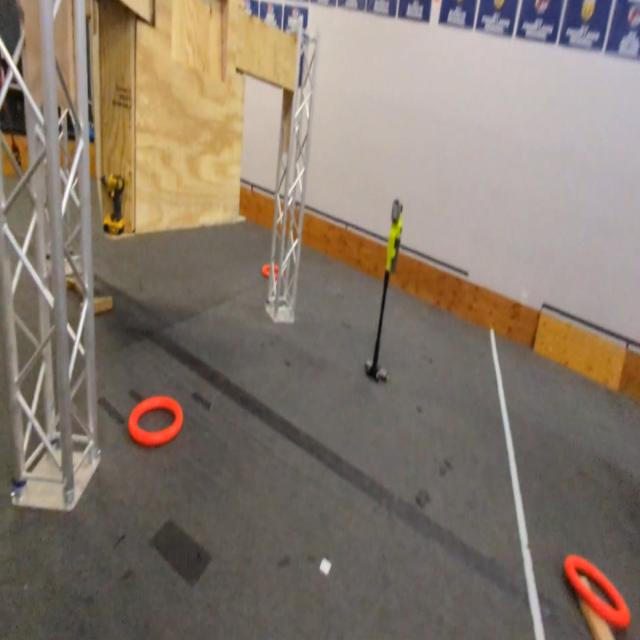note: (563, 553, 630, 634), (126, 398, 183, 447), (260, 262, 286, 282)
